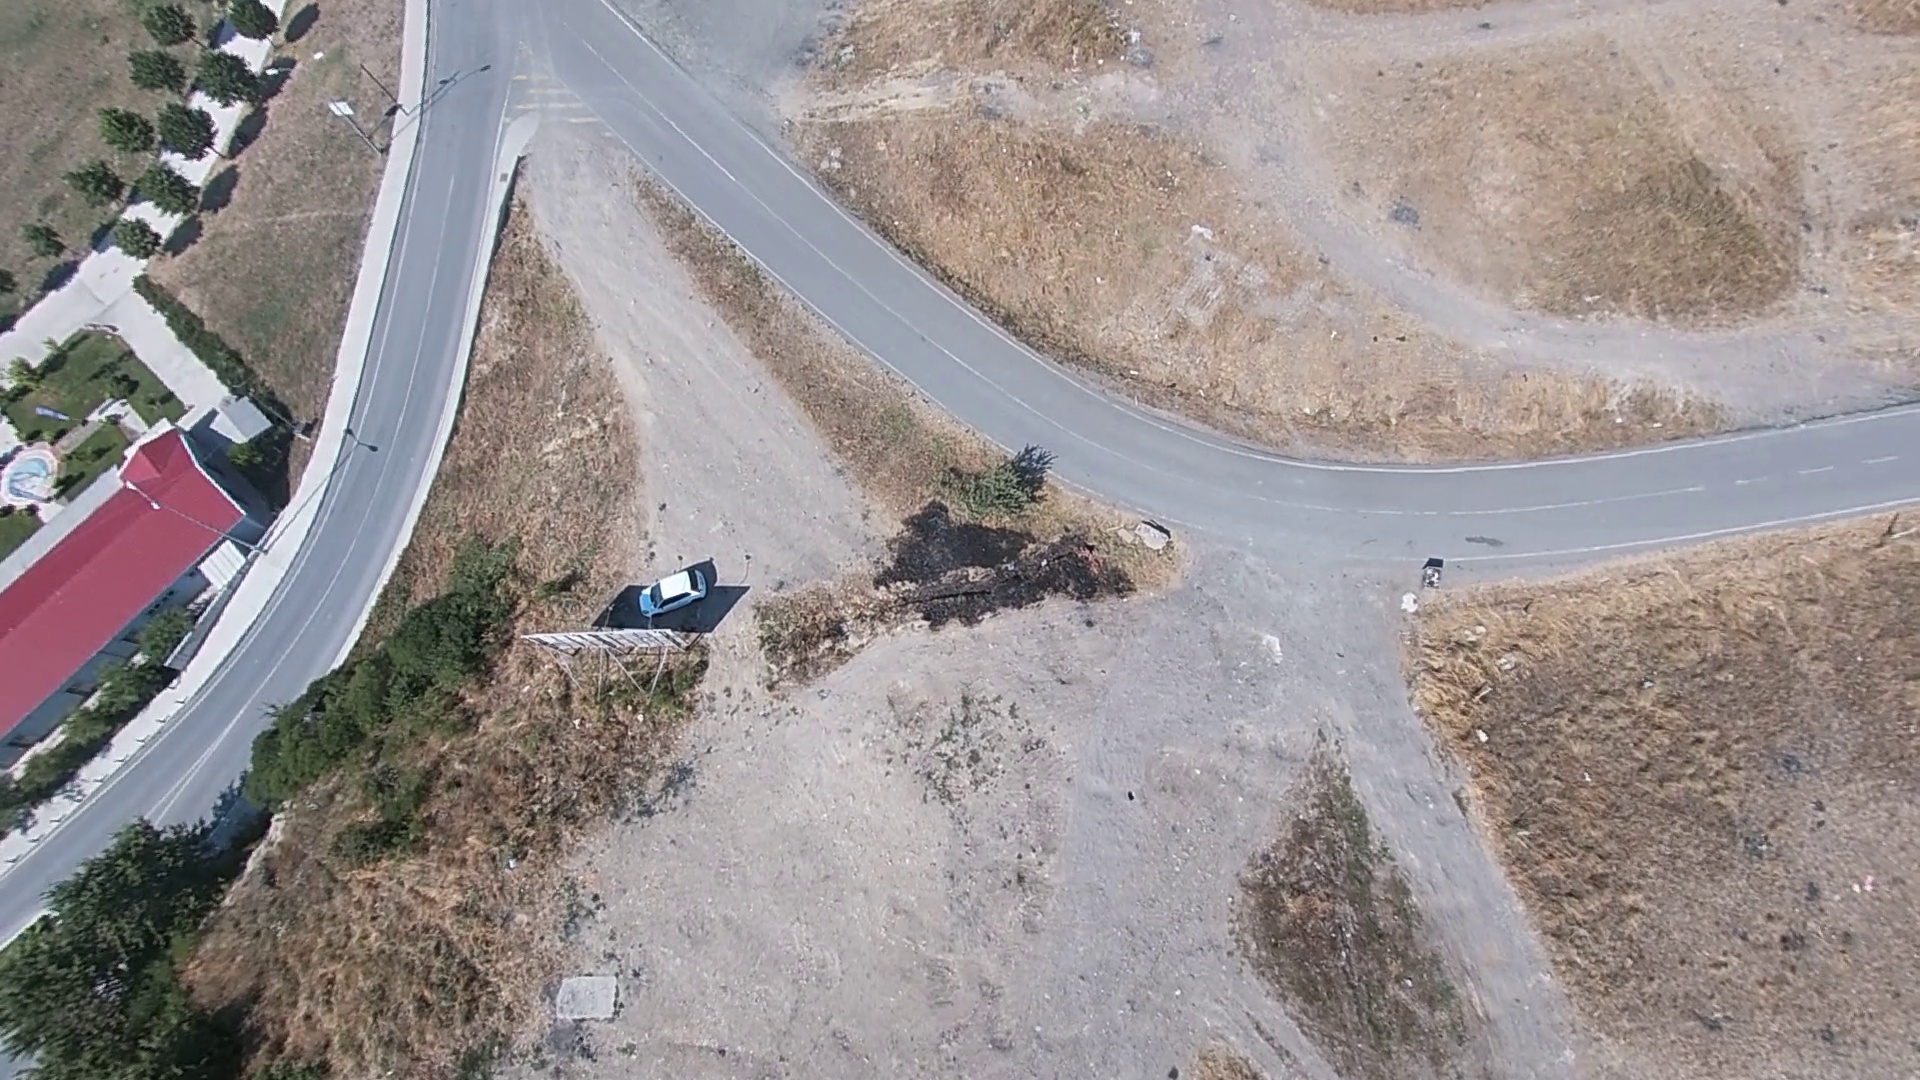araba: (636, 558, 713, 617)
